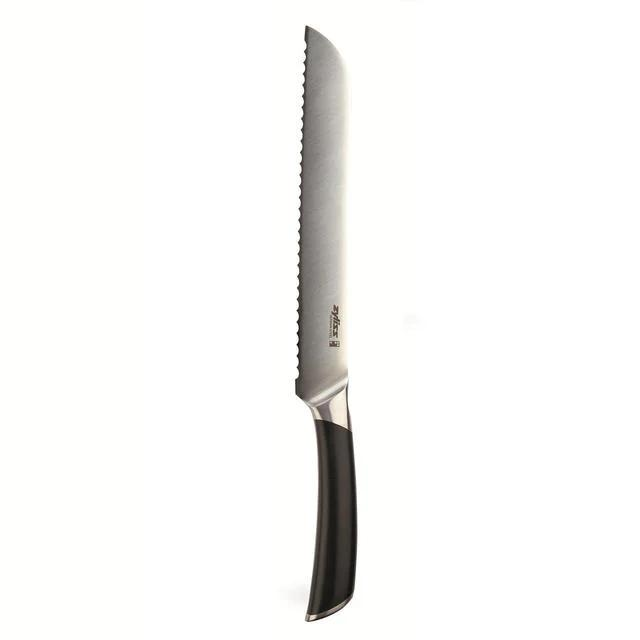Knife: (294, 23, 359, 623)
